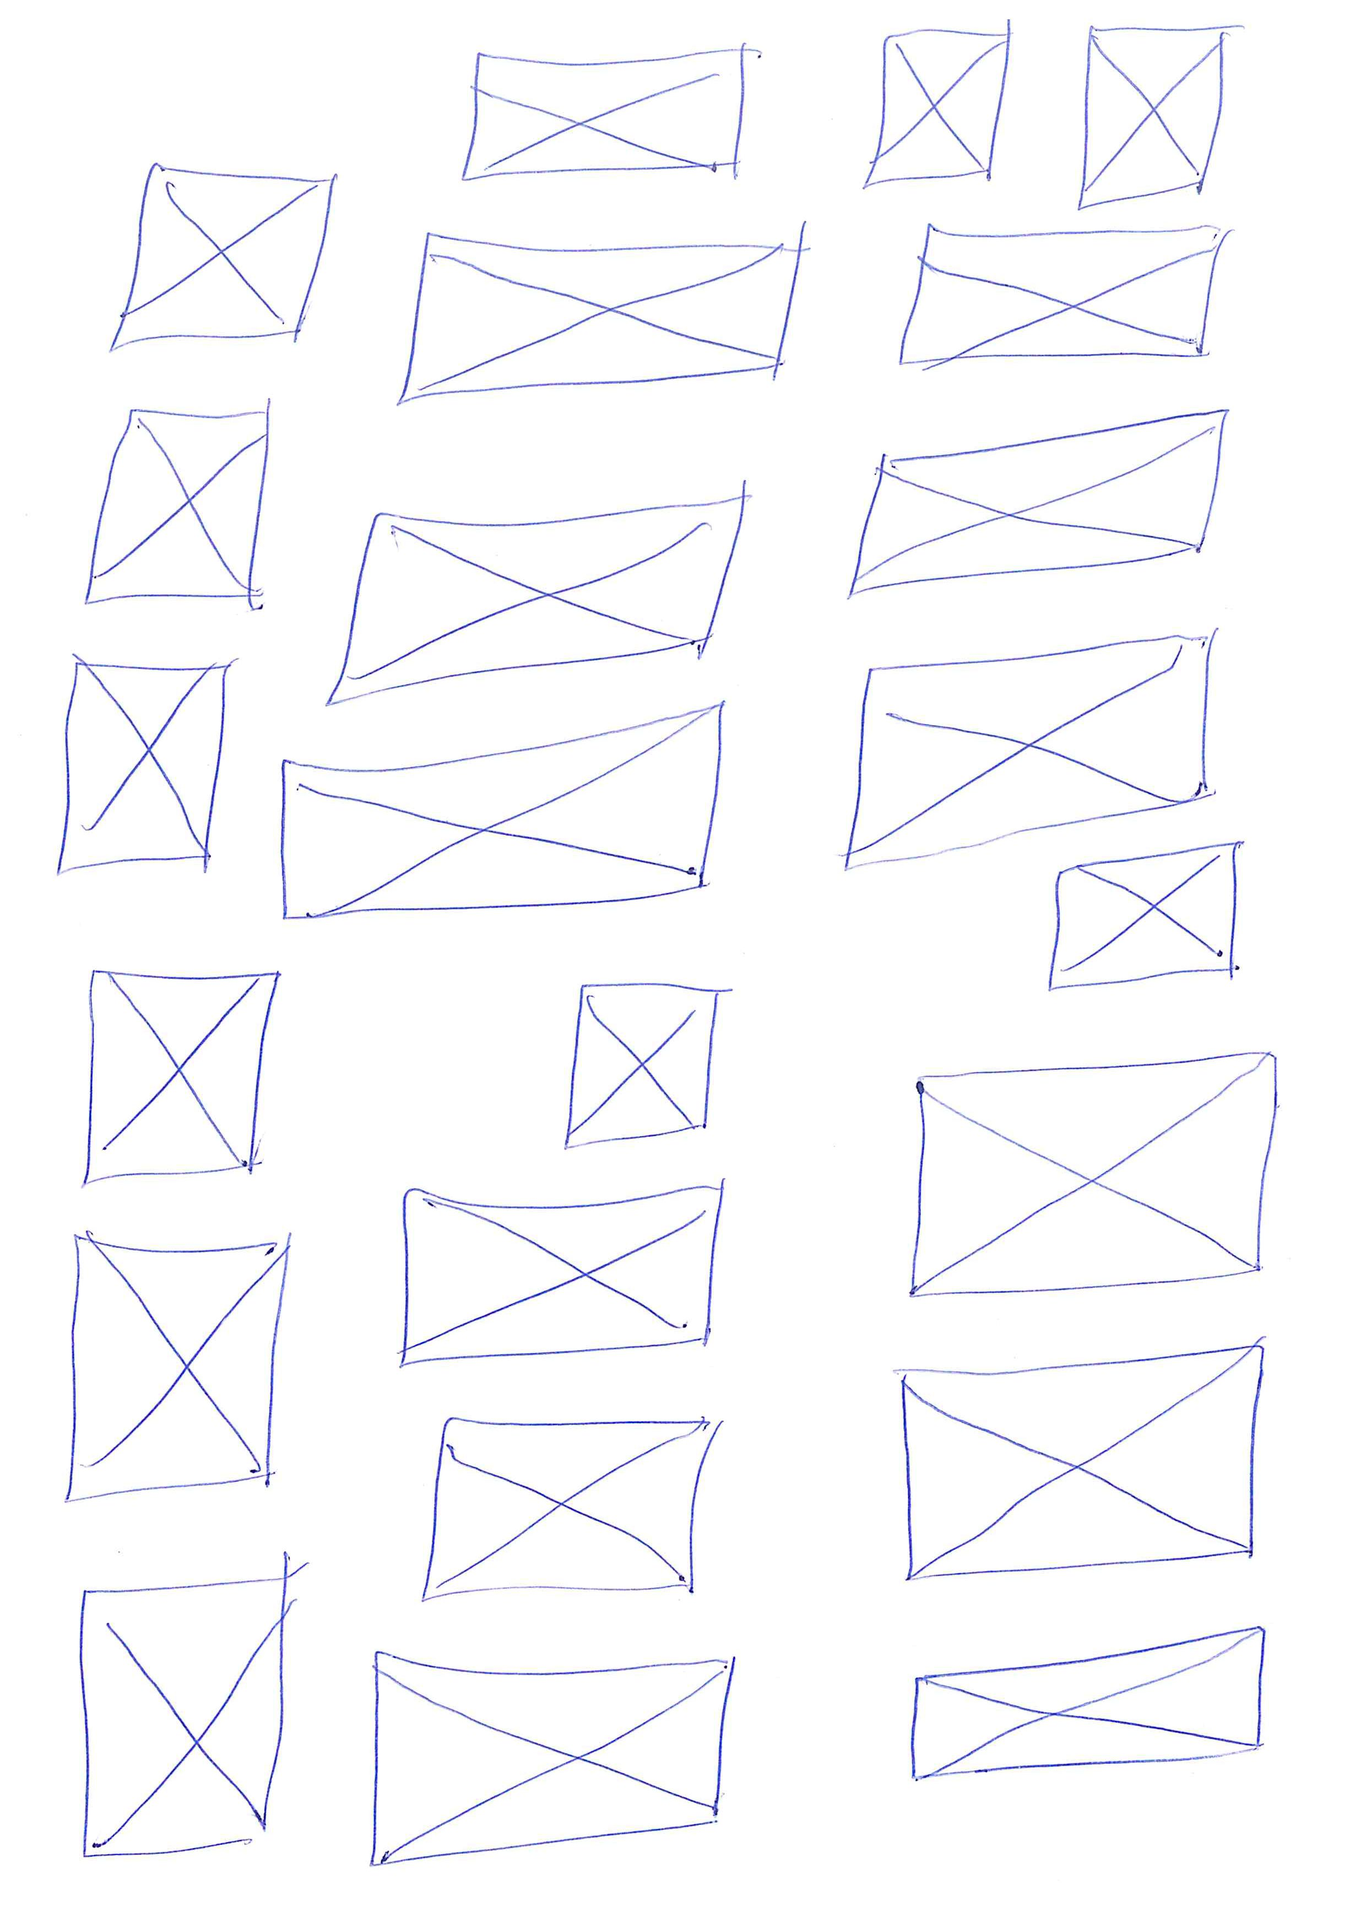Image: (276, 696, 727, 926), (906, 1048, 1282, 1300), (322, 486, 751, 705), (894, 1343, 1267, 1584), (370, 1644, 736, 1867), (840, 631, 1217, 846), (846, 405, 1227, 602), (393, 228, 807, 407), (74, 1572, 296, 1862), (64, 1229, 294, 1502), (396, 1184, 726, 1372), (417, 1412, 718, 1601), (908, 1623, 1265, 1782), (897, 220, 1231, 367), (81, 964, 282, 1195), (106, 160, 341, 352), (458, 44, 758, 183), (81, 407, 272, 608), (56, 656, 231, 875), (1047, 838, 1246, 992), (1075, 24, 1234, 213), (560, 976, 724, 1156), (860, 25, 1013, 191)
